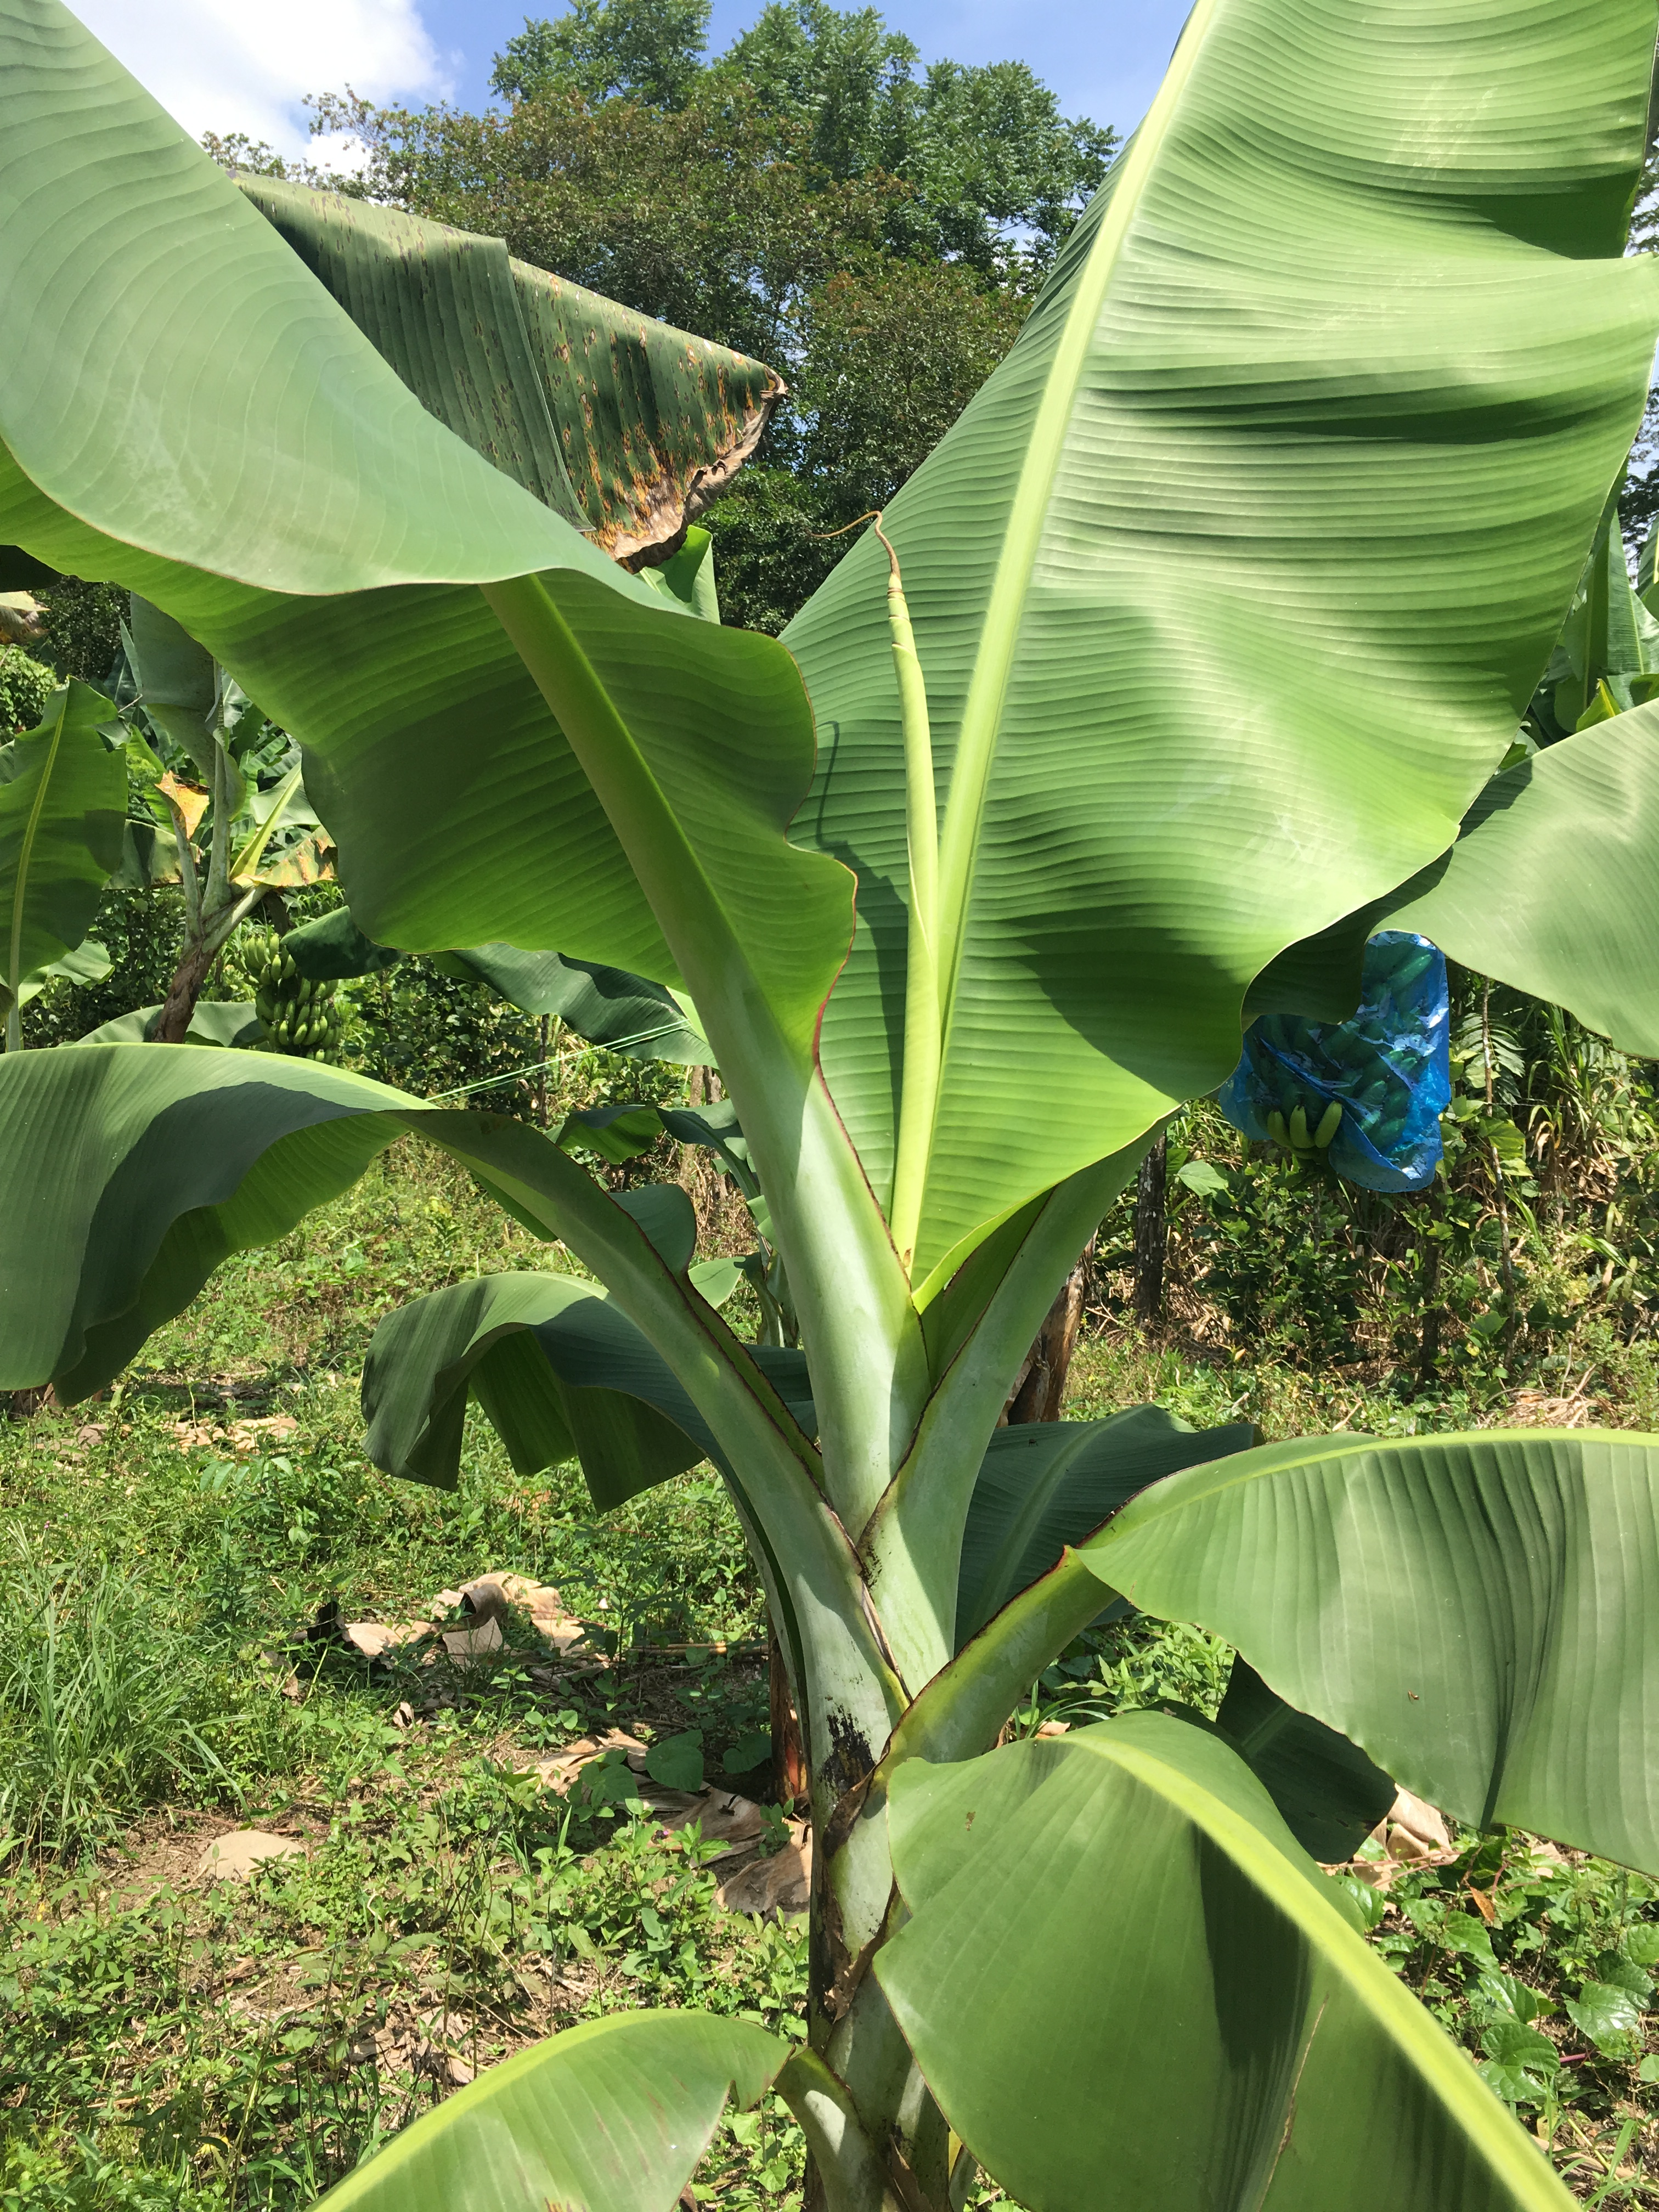candleleafs: (800, 510, 941, 1270)
